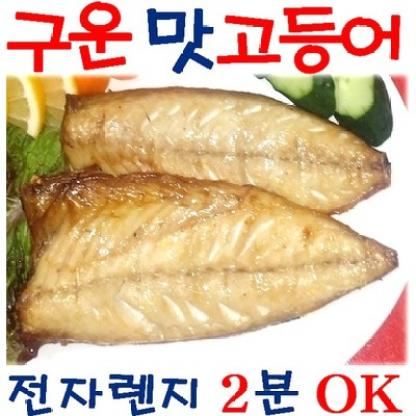Peixe: (0, 92, 402, 362)
